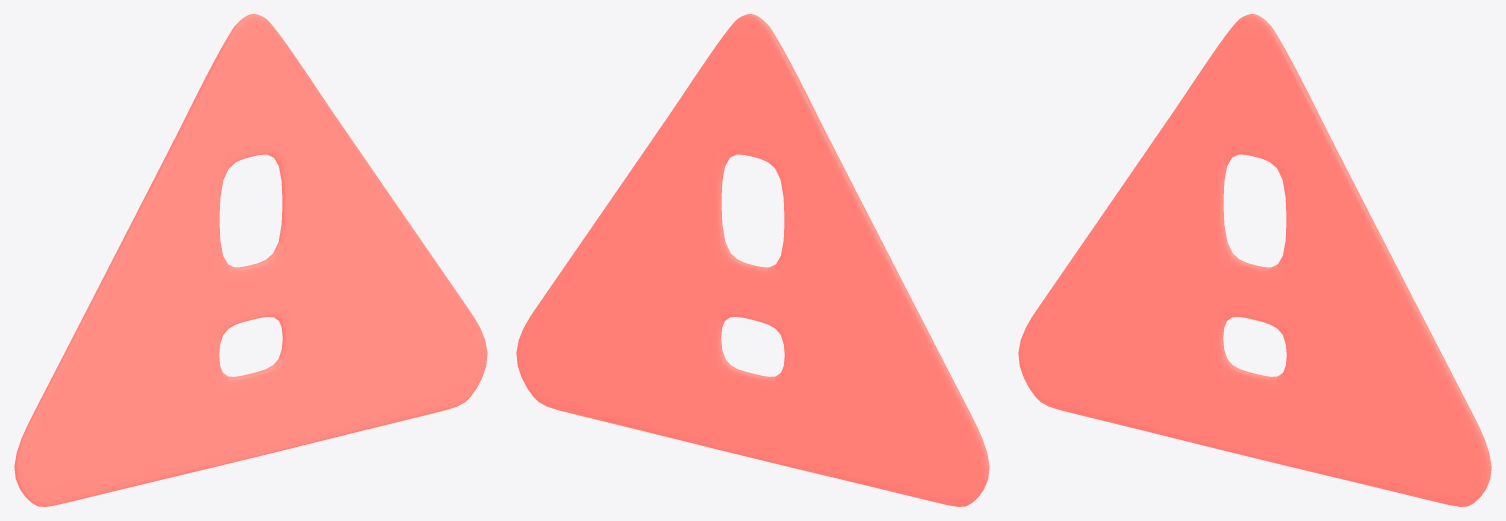
File: EnemyDrone_Warning.fbx
3 views of the same model, side by side, from view 1: azimuth 30°, elevation 25°; view 2: azimuth 150°, elevation 25°; view 3: azimuth 330°, elevation 25° (orthographic).
Visible parts, largest first — view 1: Cube; view 2: Cube; view 3: Cube.
Part boxes in pixels (x1,y1,x2,y2): Cube: (14, 14, 487, 506); Cube: (516, 14, 989, 506); Cube: (1018, 14, 1491, 506).
Size of the model in its own units: 1256 by 1126 by 18.
